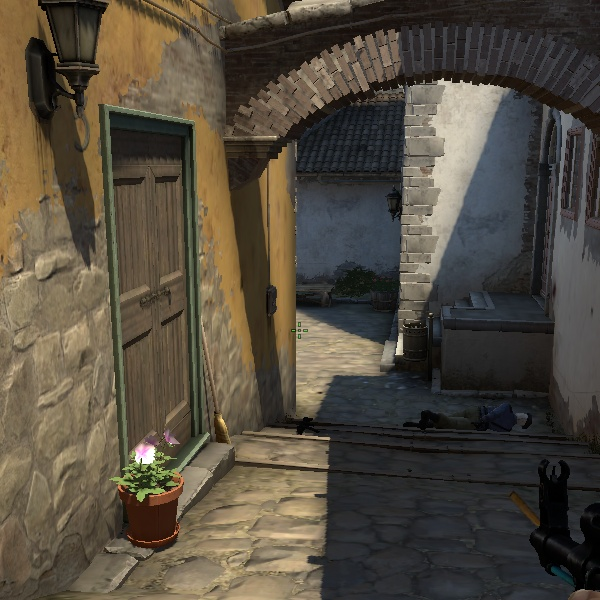ct_body: (111, 415, 208, 557)
